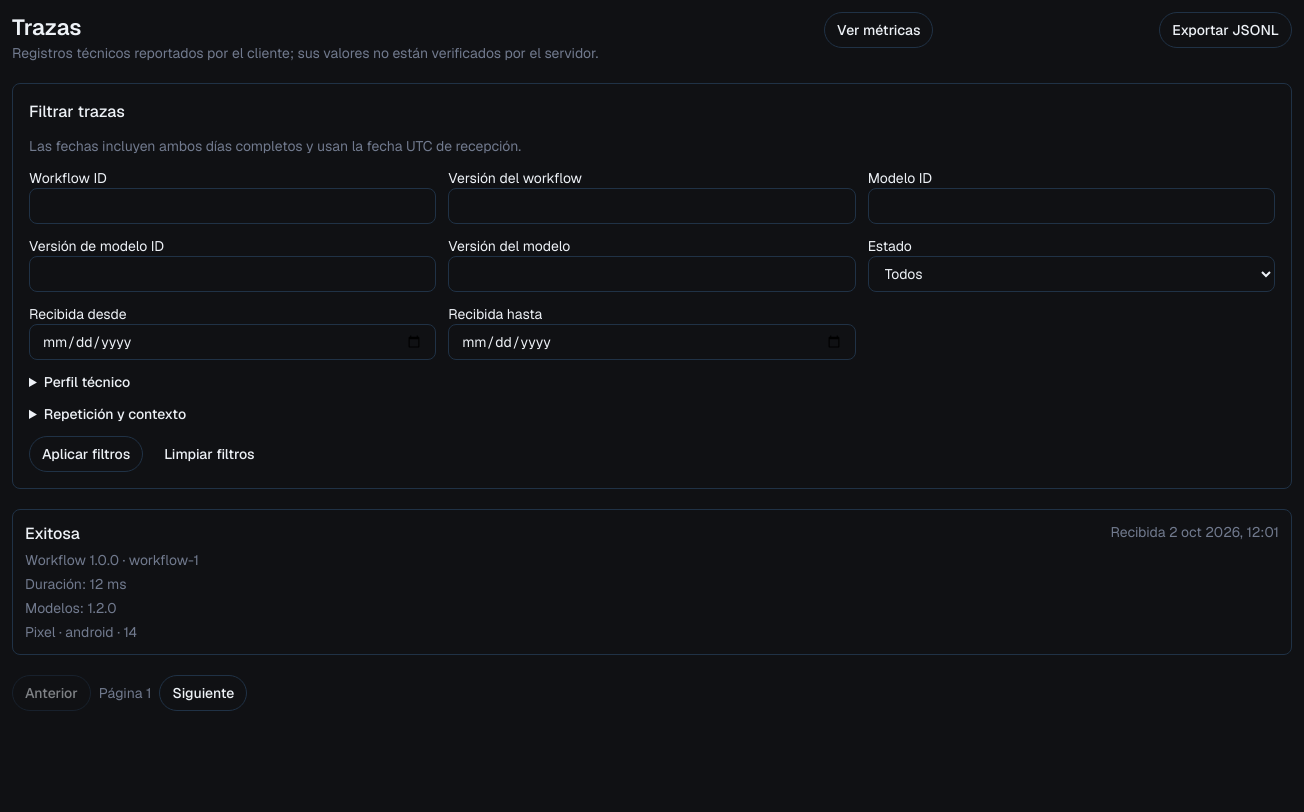
ApplicationTracesView › does not show an empty-state message when loading filtered traces fails
Expected: the text "Workflow 1.0.0 · workflow-1" is shown, [25, 550, 199, 570]
Type "missing-workflow" into the field labelled "Workflow ID".
click(233, 206); type("missing-workflow")  # box [29, 188, 436, 224]
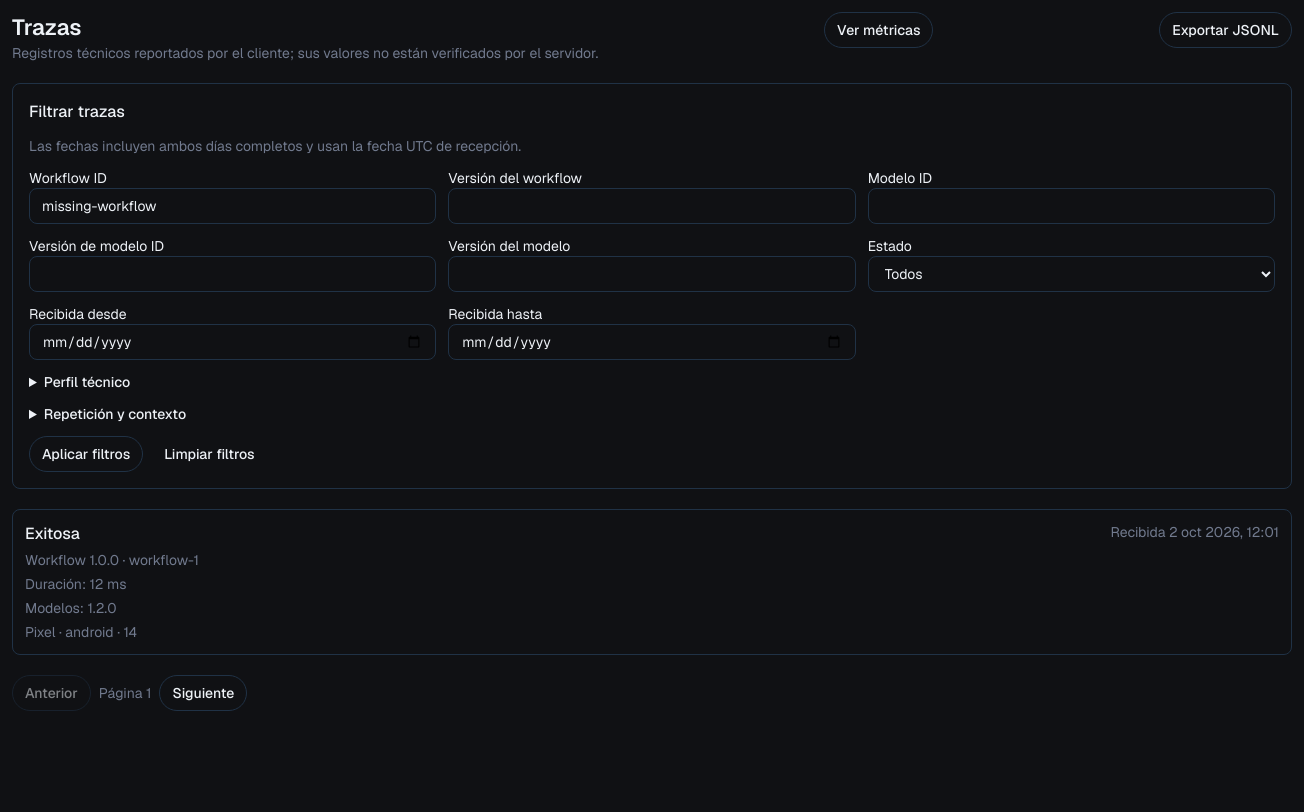
Click the button "Aplicar filtros".
click(86, 454)  # box [29, 436, 143, 472]
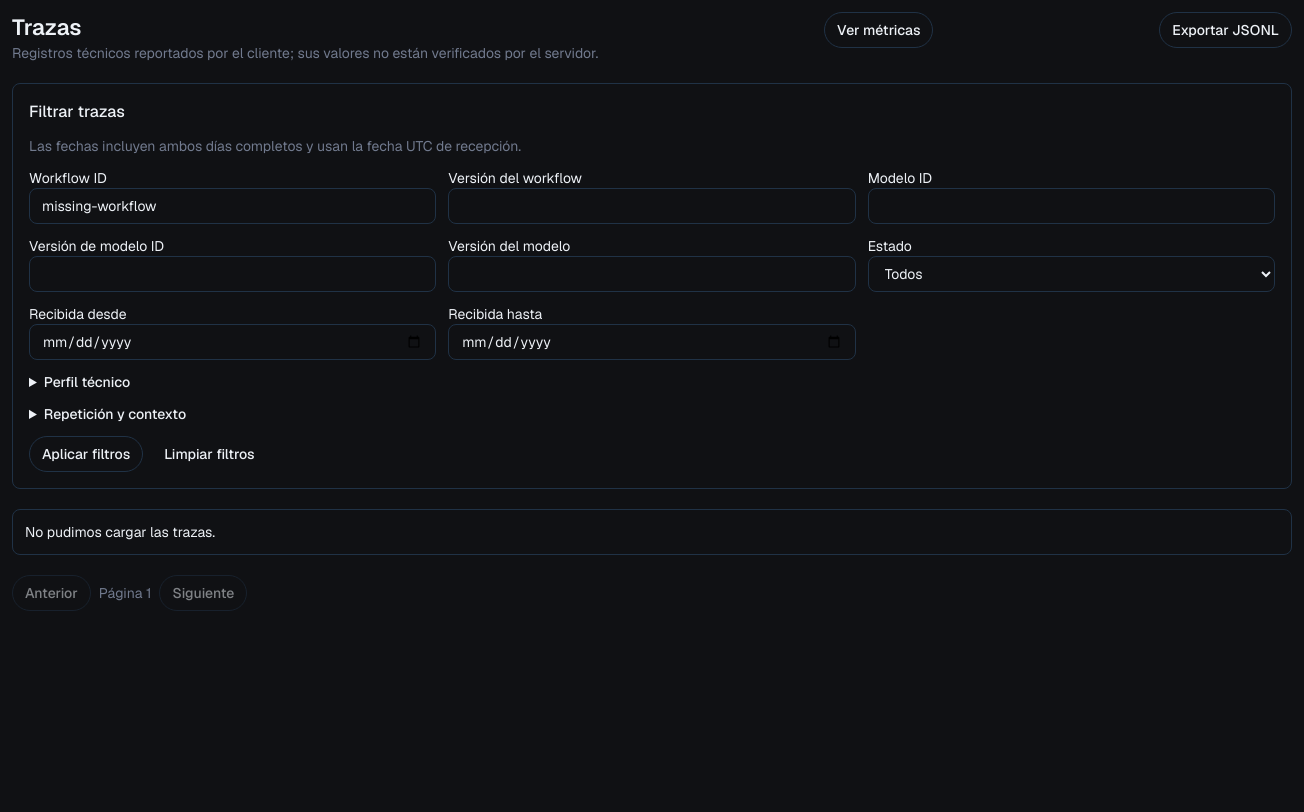
Expected: the message "No pudimos cargar las trazas." is shown, [12, 509, 1292, 555]
